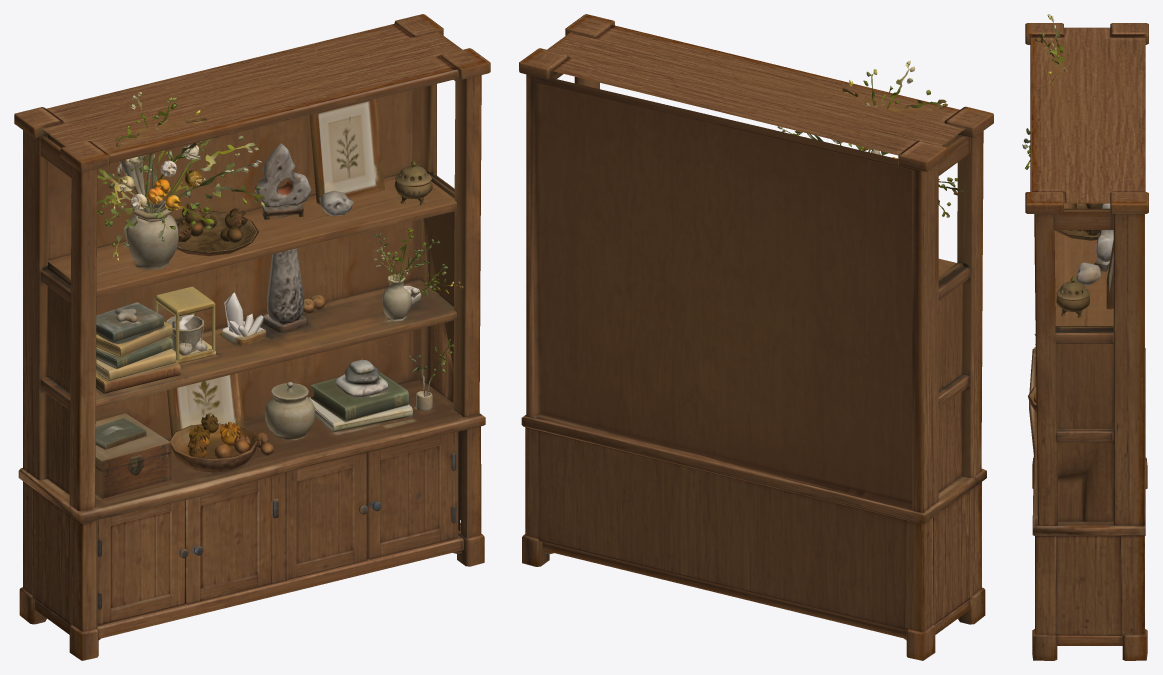
Rendered from display-cabinet.glb.
The picture shows the model from 3 angles, left to right: view 1: azimuth 30°, elevation 25°; view 2: azimuth 150°, elevation 25°; view 3: azimuth 270°, elevation 25°; orthographic projection. The views are drawn at different scales.
Visible parts, largest first — view 1: tripo_node_53d24ef3-a685-4e13-8896-109c5db22441; view 2: tripo_node_53d24ef3-a685-4e13-8896-109c5db22441; view 3: tripo_node_53d24ef3-a685-4e13-8896-109c5db22441.
Part boxes in pixels (<box>): tripo_node_53d24ef3-a685-4e13-8896-109c5db22441: <box>14,14,490,660</box>; tripo_node_53d24ef3-a685-4e13-8896-109c5db22441: <box>519,14,993,660</box>; tripo_node_53d24ef3-a685-4e13-8896-109c5db22441: <box>1022,14,1148,660</box>.
Bounding box in the file's own units: 0.7866 × 0.9995 × 0.231.
Materials: 1 (1 with a texture image).
